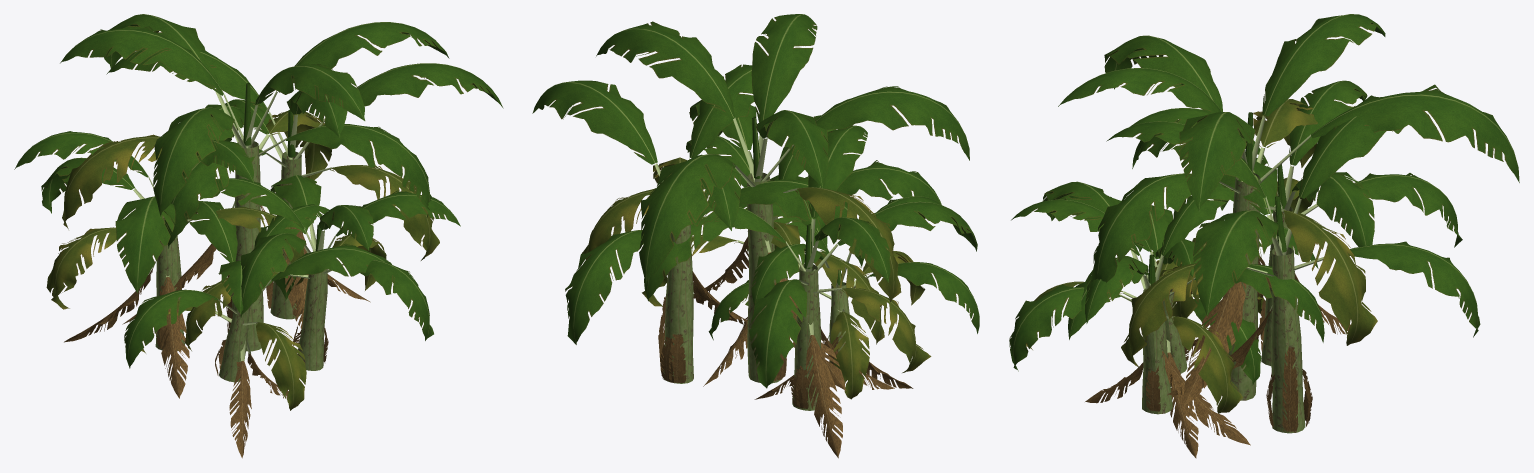
The model's file is yh_bajiao.glb.
3 views of the same model, side by side, from view 1: azimuth 30°, elevation 25°; view 2: azimuth 150°, elevation 25°; view 3: azimuth 270°, elevation 25° (orthographic). The views are drawn at different scales.
Visible parts, largest first — view 1: yh_bajiao_芭蕉叶, yh_bajiao_芭蕉老叶, yh_bajiao_芭蕉茎, yh_bajiao_芭蕉枯叶, yh_bajiao_叶柄; view 2: yh_bajiao_芭蕉叶, yh_bajiao_芭蕉老叶, yh_bajiao_芭蕉枯叶, yh_bajiao_芭蕉茎, yh_bajiao_叶柄; view 3: yh_bajiao_芭蕉叶, yh_bajiao_芭蕉老叶, yh_bajiao_芭蕉枯叶, yh_bajiao_芭蕉茎, yh_bajiao_叶柄.
Boxes of the visible parts, x1,y1,x2,y2 form: yh_bajiao_芭蕉叶: [14, 14, 503, 368]; yh_bajiao_芭蕉老叶: [46, 111, 439, 410]; yh_bajiao_芭蕉茎: [155, 141, 327, 382]; yh_bajiao_芭蕉枯叶: [64, 205, 370, 458]; yh_bajiao_叶柄: [133, 90, 343, 361]; yh_bajiao_芭蕉叶: [532, 14, 979, 388]; yh_bajiao_芭蕉老叶: [581, 157, 931, 399]; yh_bajiao_芭蕉枯叶: [658, 236, 913, 458]; yh_bajiao_芭蕉茎: [663, 172, 850, 410]; yh_bajiao_叶柄: [654, 117, 870, 338]; yh_bajiao_芭蕉叶: [1009, 14, 1519, 385]; yh_bajiao_芭蕉老叶: [1026, 99, 1377, 413]; yh_bajiao_芭蕉枯叶: [1085, 254, 1350, 458]; yh_bajiao_芭蕉茎: [1142, 172, 1305, 433]; yh_bajiao_叶柄: [1119, 115, 1323, 352].
Bounding box in the file's own units: 1.27 × 1 × 1.19.
Materials: 5 (4 with a texture image).
